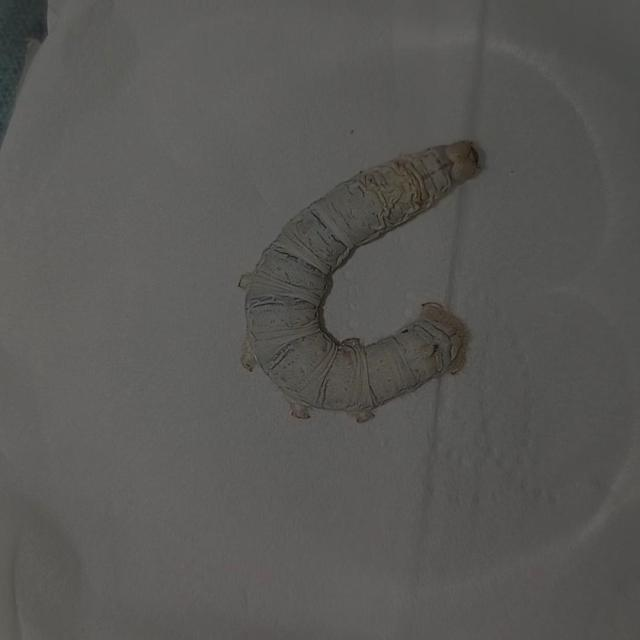Healthy: (214, 106, 521, 466)
